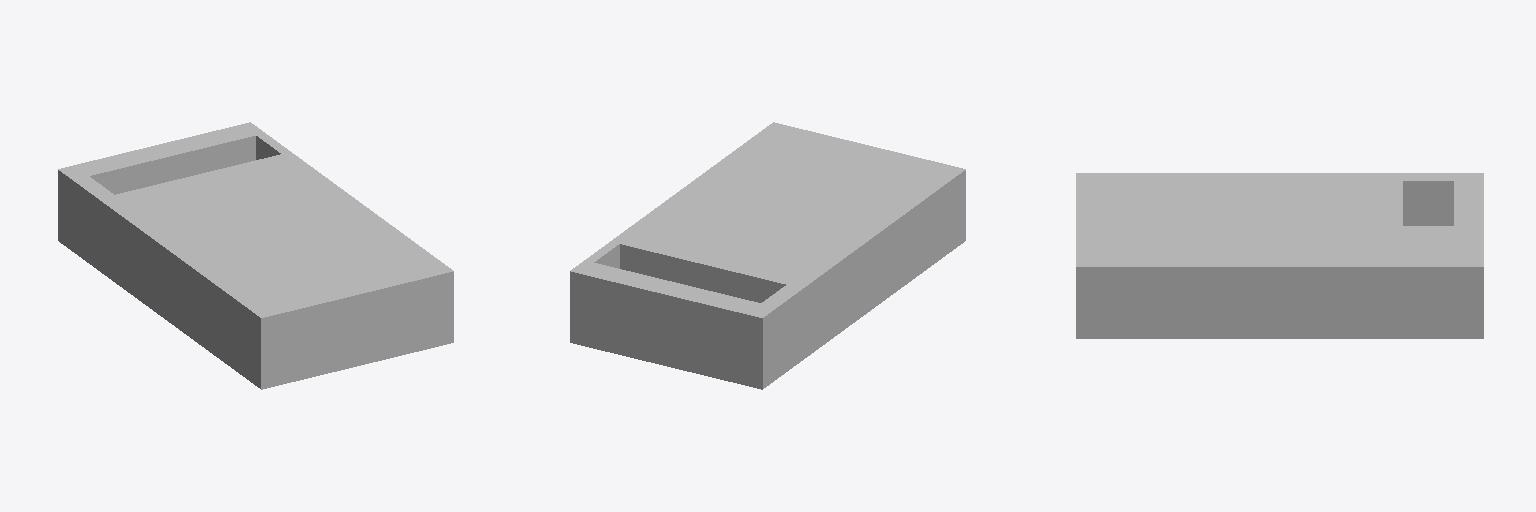
Rendered from keyreader.obj.
3 views of the same model, side by side, from view 1: azimuth 30°, elevation 25°; view 2: azimuth 150°, elevation 25°; view 3: azimuth 270°, elevation 25° (orthographic).
Parts seen in each view (by area): view 1: Cube; view 2: Cube; view 3: Cube.
Part boxes in pixels (bbox=[...]): Cube: bbox=[58, 122, 453, 389]; Cube: bbox=[570, 122, 965, 389]; Cube: bbox=[1076, 173, 1483, 338].
Bounding box in the file's own units: 5.65 × 2 × 10.34.